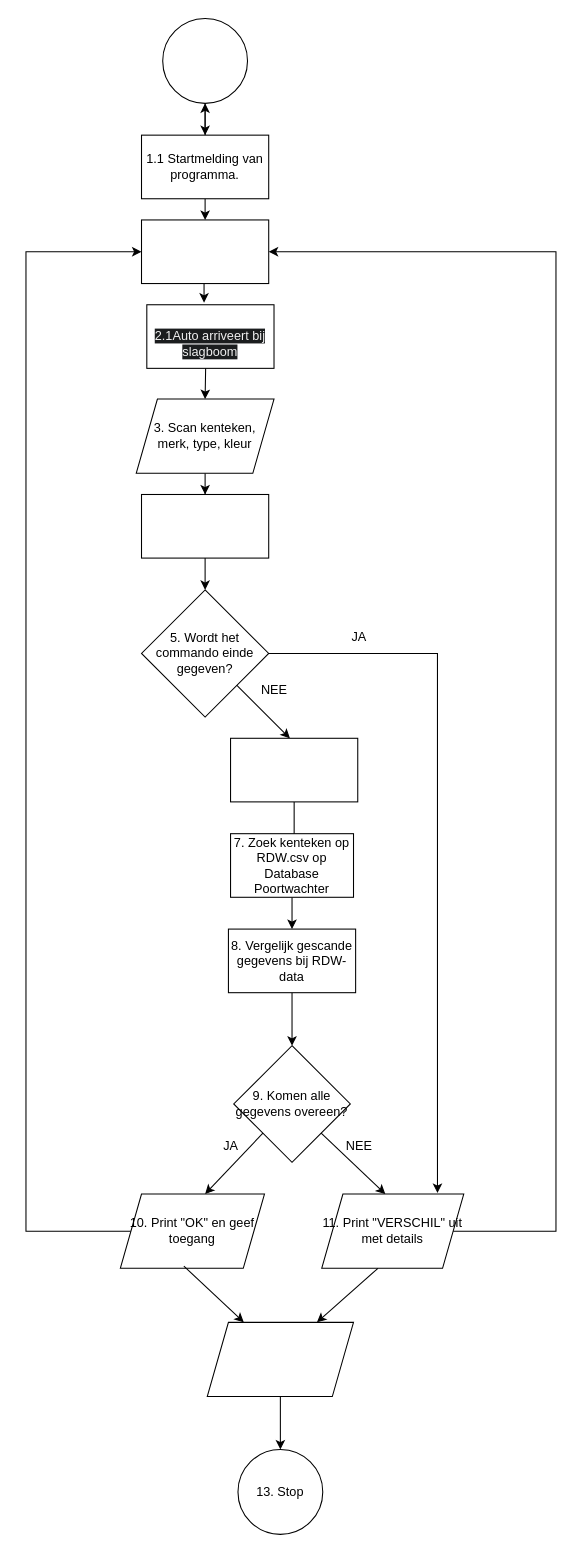
The diagram is 583 pixels wide and 1553 high, and some of its shapes have lost their labels. Each missing label, with the centre of its shape:
1. Start: (x=205, y=60)
12. EINDE Toon totaal OK/VERSCHIL en aantaal kentekens: (x=280, y=1359)
2. Wachten op volgende auto.: (x=204, y=251)
4. Sla gescande gegevens op op GescandeData.csv: (x=204, y=525)
6. Haal nieuwste scan uit GescandeData.csv: (x=293, y=769)
